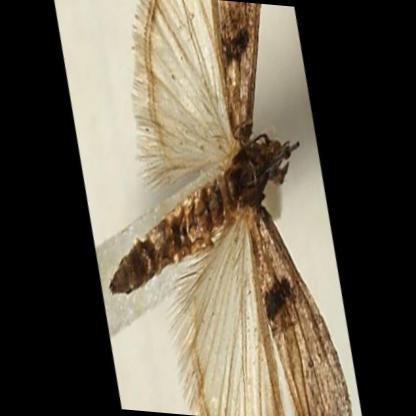Leaf Webber: (105, 0, 349, 416)
